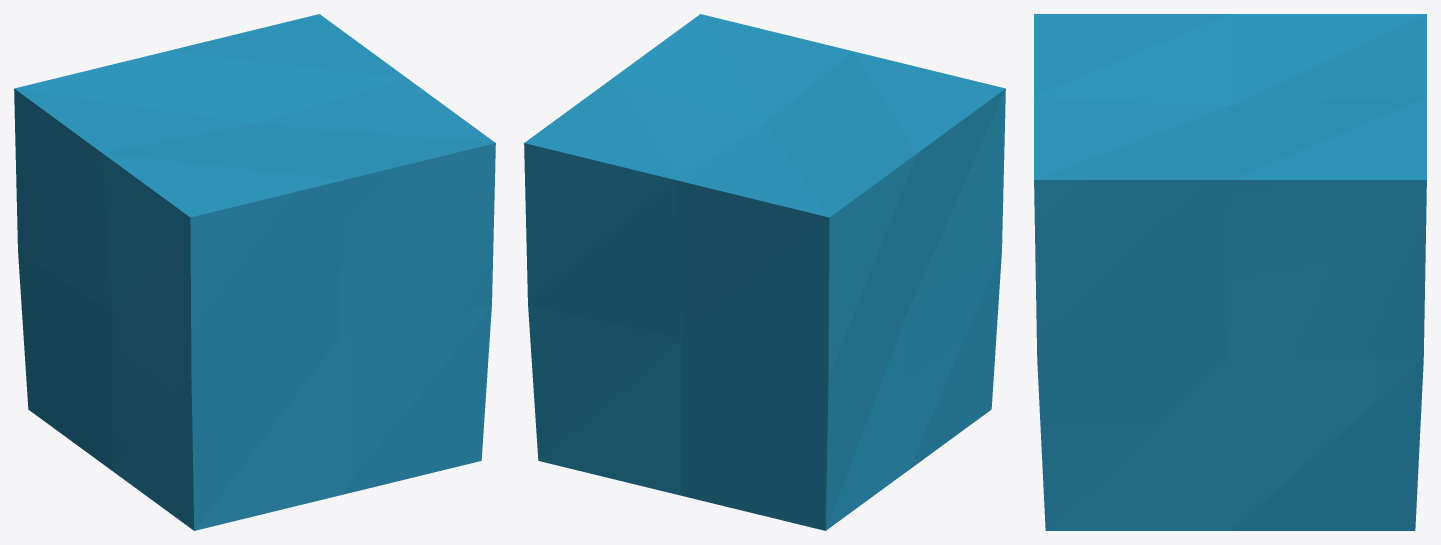
File: resources_epoxi-resin.fbx
The picture shows the model from 3 angles, left to right: view 1: azimuth 30°, elevation 25°; view 2: azimuth 150°, elevation 25°; view 3: azimuth 270°, elevation 25°; orthographic projection. The views are drawn at different scales.
Visible parts, largest first — view 1: resources_epoxi_resin; view 2: resources_epoxi_resin; view 3: resources_epoxi_resin.
Boxes of the visible parts, x1,y1,x2,y2 form: resources_epoxi_resin: (14,14,495,530); resources_epoxi_resin: (524,14,1005,530); resources_epoxi_resin: (1034,14,1426,530).
Size of the model in its own units: 200 by 200 by 200.
